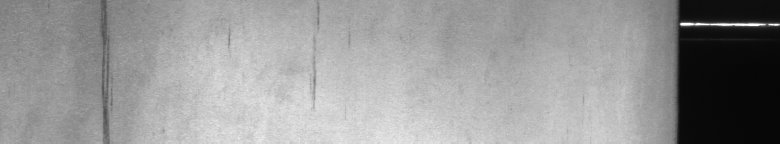hd: (89, 4, 116, 136)
